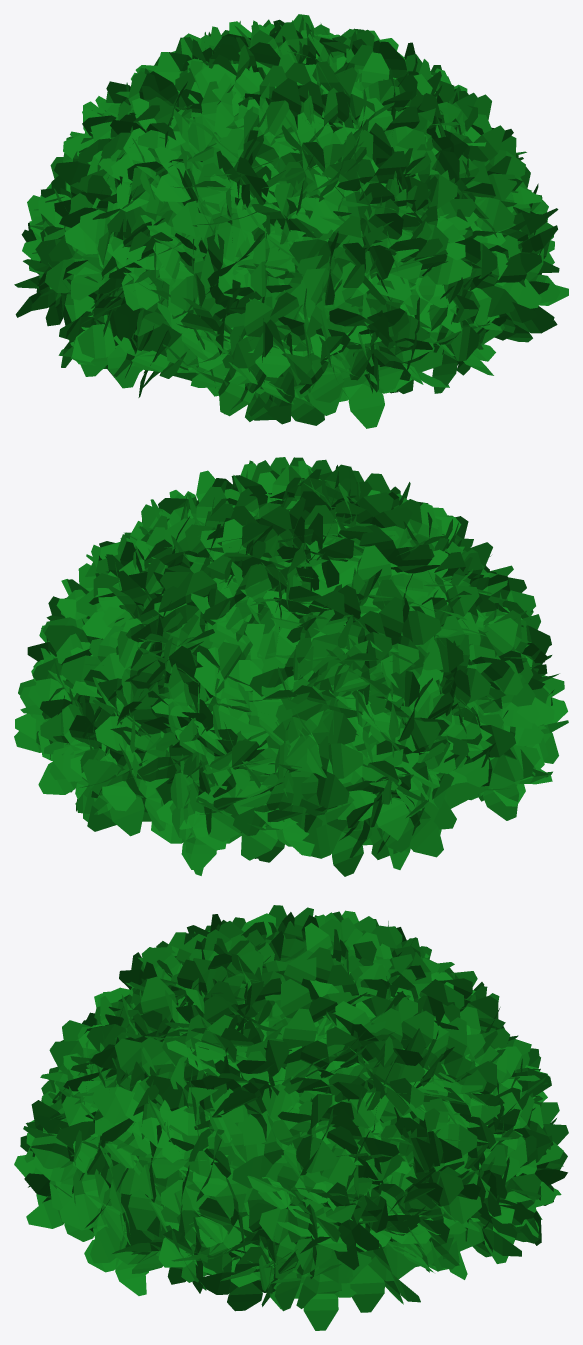
Rendered from smallBush.fbx.
3 renders of one model, top to bottom at view 1: azimuth 30°, elevation 25°; view 2: azimuth 150°, elevation 25°; view 3: azimuth 270°, elevation 25°, orthographic.
Visible parts, largest first — view 1: Sphere; view 2: Sphere; view 3: Sphere.
Boxes of the visible parts, box(x1,y1,x2,y2) form: Sphere: box(14, 14, 568, 428); Sphere: box(14, 457, 568, 876); Sphere: box(14, 905, 568, 1330).
Size of the model in its own units: 174 by 103 by 174.
